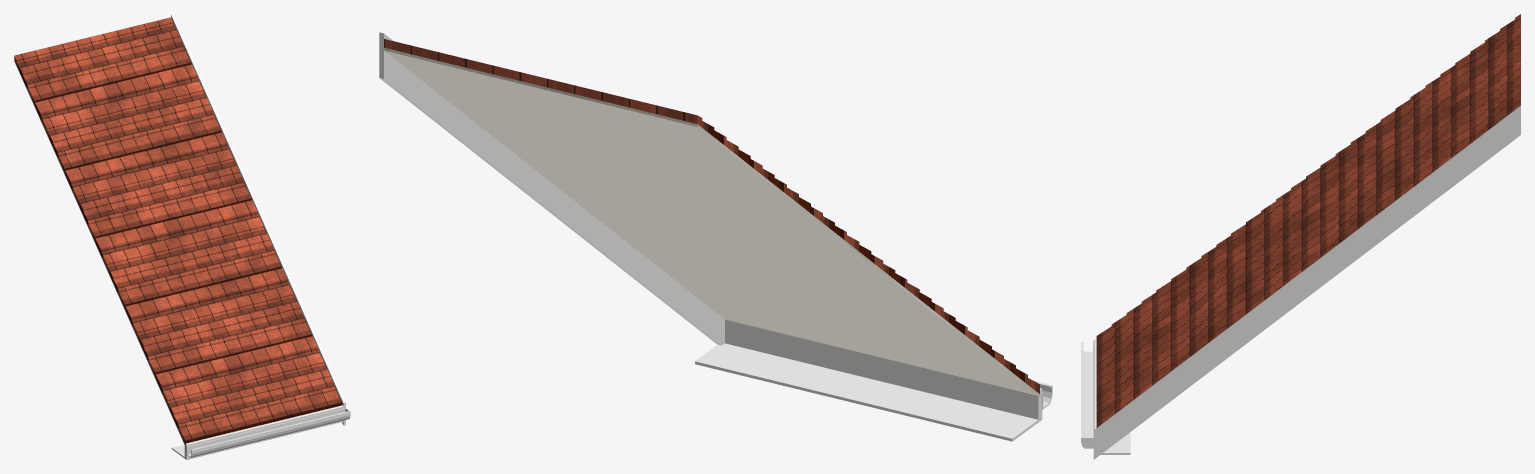
Rendered from roof_eave_b.glb.
The picture shows the model from 3 angles, left to right: view 1: azimuth 30°, elevation 25°; view 2: azimuth 150°, elevation 25°; view 3: azimuth 270°, elevation 25°; orthographic projection. The views are drawn at different scales.
Visible parts, largest first — view 1: roof_eave_b_shingles, roof_eave_b_trim, roof_eave_b_gutter, roof_eave_b_plaster; view 2: roof_eave_b_plaster, roof_eave_b_trim, roof_eave_b_shingles; view 3: roof_eave_b_shingles, roof_eave_b_trim, roof_eave_b_gutter.
Part boxes in pixels (x1,y1,x2,y2): roof_eave_b_shingles: (14, 17, 342, 445); roof_eave_b_trim: (171, 14, 345, 459); roof_eave_b_gutter: (186, 408, 350, 457); roof_eave_b_plaster: (14, 60, 185, 446); roof_eave_b_plaster: (384, 48, 1039, 396); roof_eave_b_trim: (379, 32, 1042, 441); roof_eave_b_shingles: (384, 39, 1039, 393); roof_eave_b_shingles: (1096, 14, 1520, 427); roof_eave_b_trim: (1093, 105, 1520, 459); roof_eave_b_gutter: (1081, 342, 1093, 448).
Bounding box in the file's own units: 2.34 × 4 × 4.51.
Materials: 4 (2 with a texture image).
